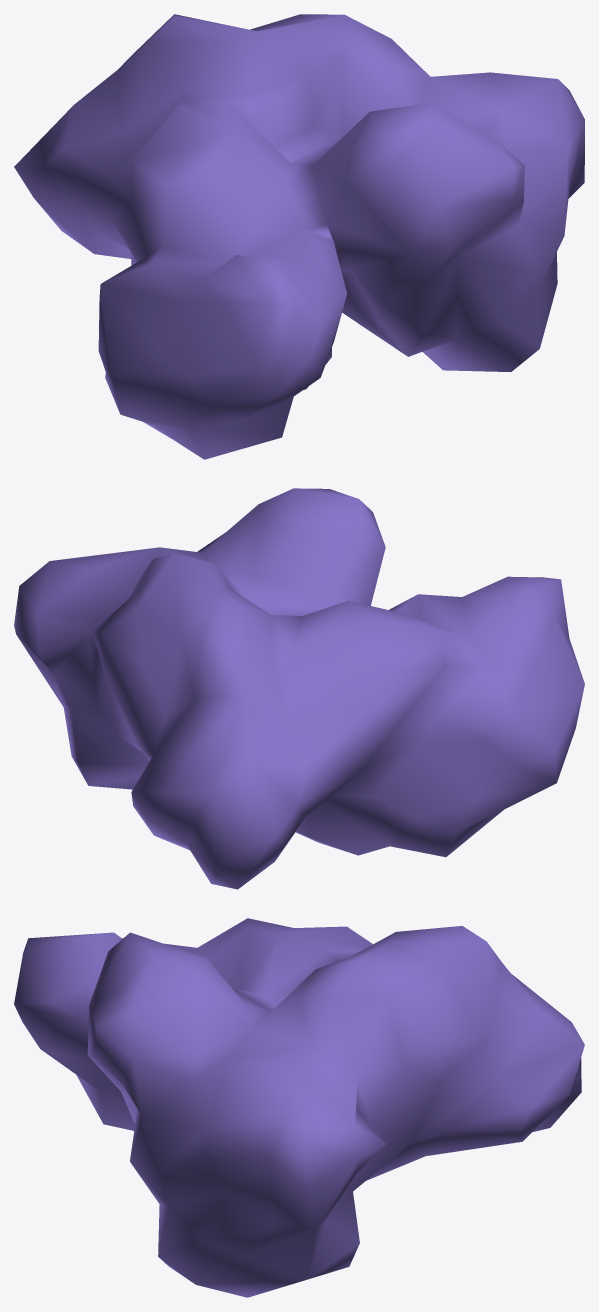
The model's file is MiinBloodPlasma_HSA_PalmiticAcid_4bke_0_1_0.dae.
The picture shows the model from 3 angles, top to bottom: view 1: azimuth 30°, elevation 25°; view 2: azimuth 150°, elevation 25°; view 3: azimuth 270°, elevation 25°; orthographic projection. The views are drawn at different scales.
Parts seen in each view (by area): view 1: CoarseMS_4bke; view 2: CoarseMS_4bke; view 3: CoarseMS_4bke.
Part boxes in pixels (x1,y1,x2,y2): CoarseMS_4bke: [14, 14, 584, 459]; CoarseMS_4bke: [14, 488, 584, 889]; CoarseMS_4bke: [14, 918, 584, 1297].
Size of the model in its own units: 90.33 by 52.5 by 91.44.
